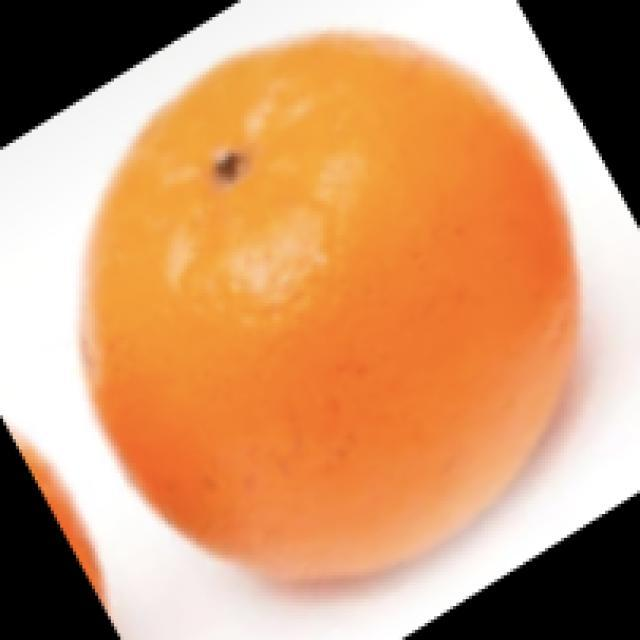Orange: (79, 29, 581, 584)
